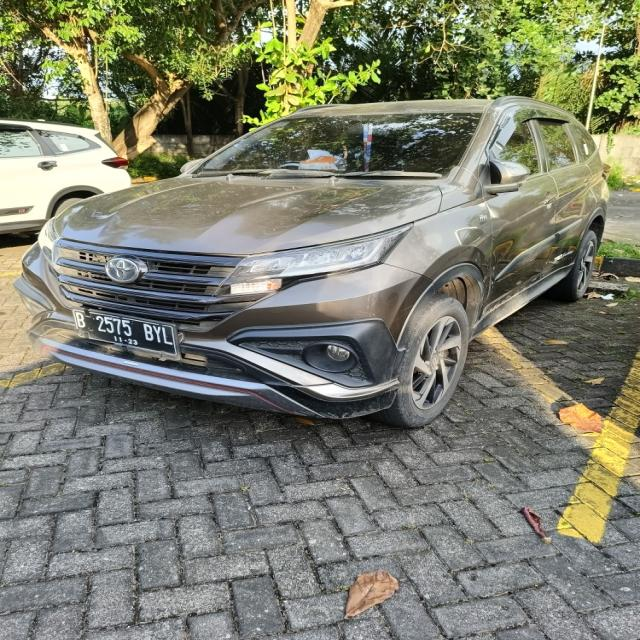plates: (60, 308, 181, 354)
